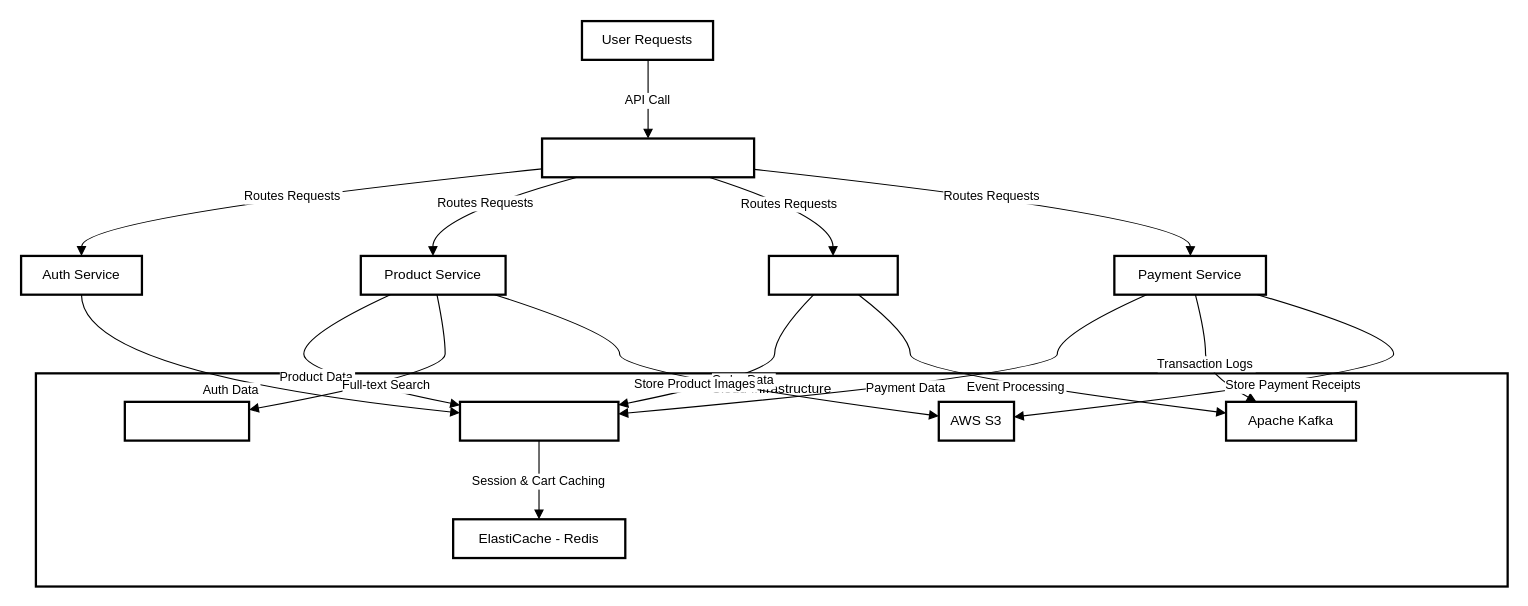
This 1528x606 diagram has some shape labels left out. The shapes that lost their labels are listed below. From the top down, each one's box as (x1, y1, x2, y2) in pixels, then its label:
(540, 137, 755, 178): AWS API Gateway & ALB
(767, 254, 898, 295): Order Service
(123, 400, 250, 441): Elasticsearch
(458, 400, 619, 441): AWS RDS - MySQL
